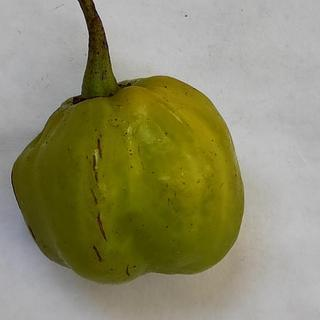striped: (95, 209, 109, 243), (94, 133, 106, 163), (90, 153, 101, 185), (90, 243, 104, 264), (89, 187, 99, 206), (124, 263, 132, 280)
